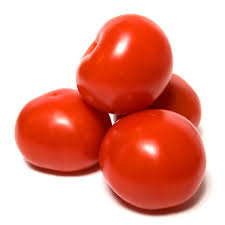tomato: (102, 111, 207, 209), (74, 11, 173, 108), (5, 87, 103, 175)
